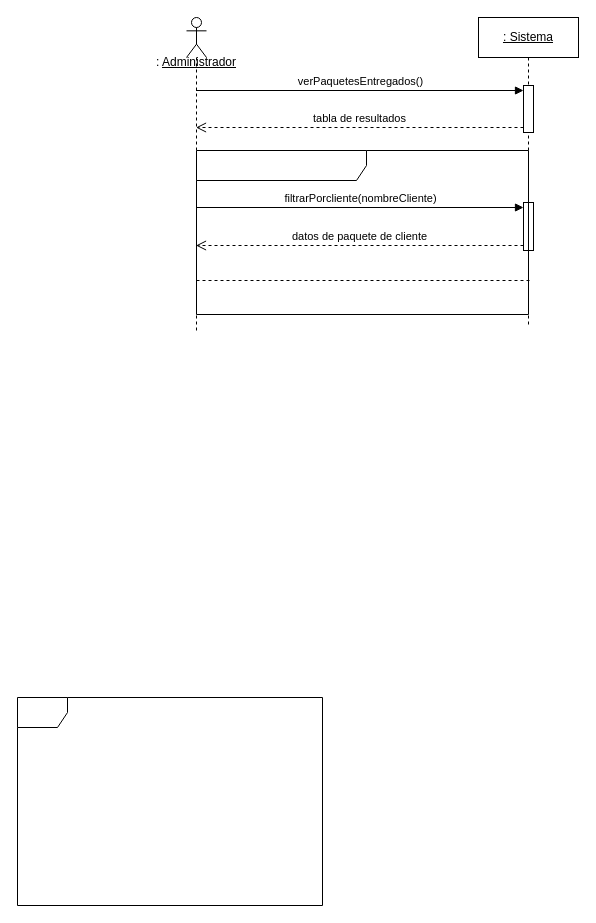
Image size: 596x923. Some labels were removed from this diagram. The shapes that lost their labels are listed below. From the top down, each one's centre as x and y in pixels, then its label:
point (362, 232): Condition
point (169, 801): Loop
